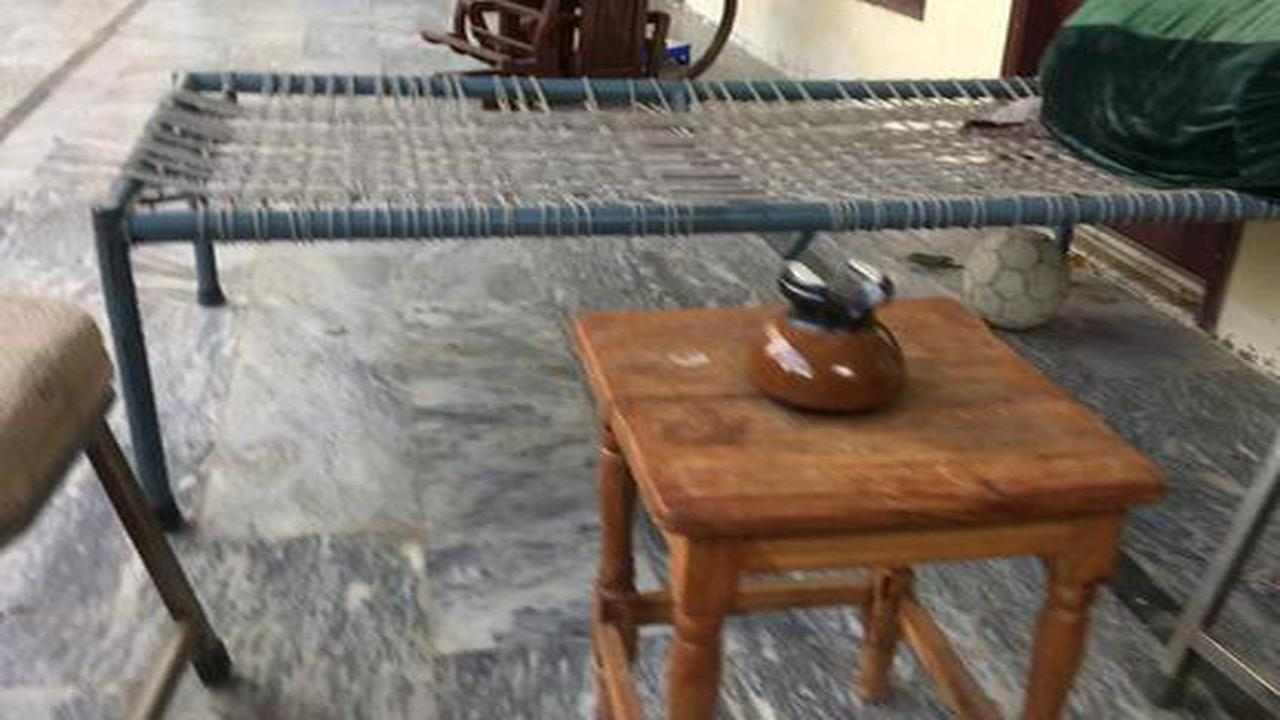insulator_pin: (727, 240, 933, 428)
